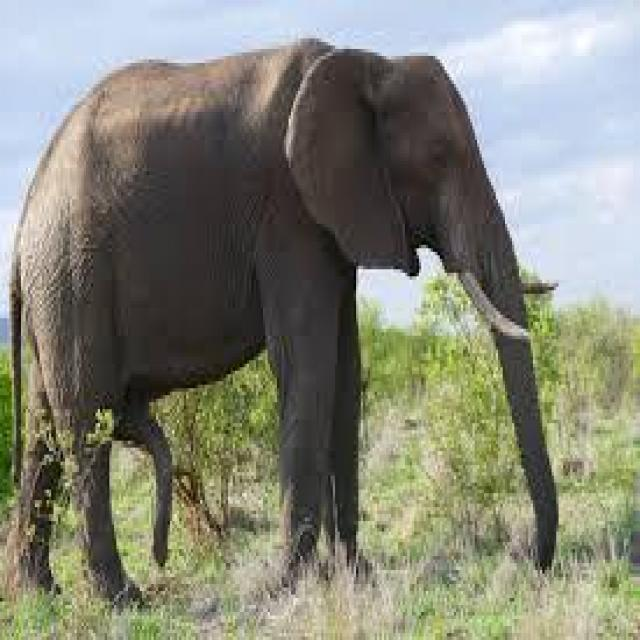Elephant: (11, 39, 558, 591)
